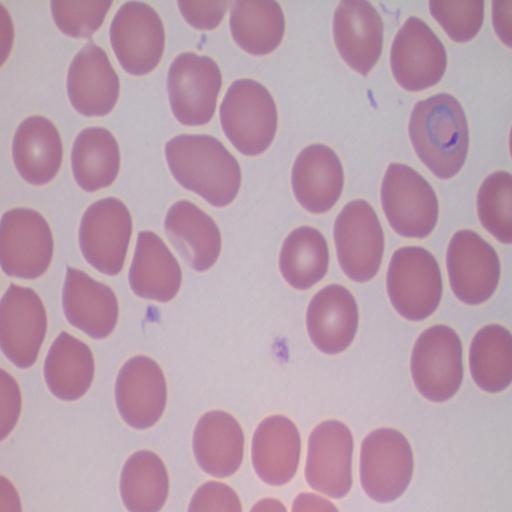Infected: (409, 93, 469, 178)
Uninfected: (164, 135, 240, 208), (382, 161, 439, 241), (162, 200, 223, 273), (219, 79, 278, 154), (78, 197, 133, 275), (62, 266, 119, 341), (333, 199, 385, 281), (385, 247, 441, 320), (390, 17, 445, 91), (358, 427, 412, 502), (167, 53, 223, 125), (114, 356, 168, 430), (109, 3, 165, 74), (411, 325, 464, 400), (304, 420, 355, 497), (0, 207, 54, 279), (66, 46, 120, 117), (191, 409, 246, 478), (129, 230, 184, 299), (448, 231, 499, 305), (332, 1, 383, 75), (290, 143, 344, 212), (0, 286, 46, 367), (11, 114, 63, 184), (306, 285, 358, 354), (44, 332, 96, 400), (251, 415, 301, 485), (71, 127, 122, 190), (278, 227, 328, 289), (229, 0, 284, 56), (118, 452, 169, 512), (469, 323, 512, 393), (477, 171, 512, 241), (51, 1, 111, 37), (430, 1, 483, 41)
